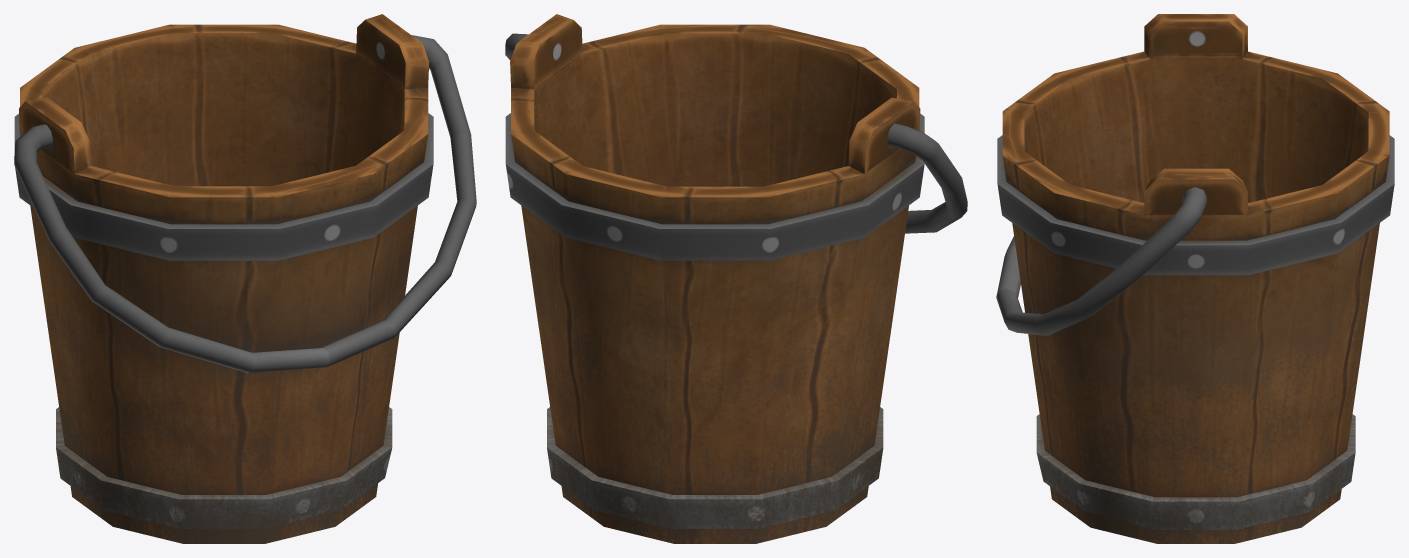
File: bucket.fbx
3 renders of one model, left to right at view 1: azimuth 30°, elevation 25°; view 2: azimuth 150°, elevation 25°; view 3: azimuth 270°, elevation 25°, orthographic. The views are drawn at different scales.
Parts seen in each view (by area): view 1: bucket; view 2: bucket; view 3: bucket.
Part boxes in pixels (x1=…): bucket: x1=14, y1=14, x2=476, y2=543; bucket: x1=505, y1=14, x2=967, y2=543; bucket: x1=996, y1=14, x2=1394, y2=543.
Bounding box in the file's own units: 105 × 94.94 × 88.45.
